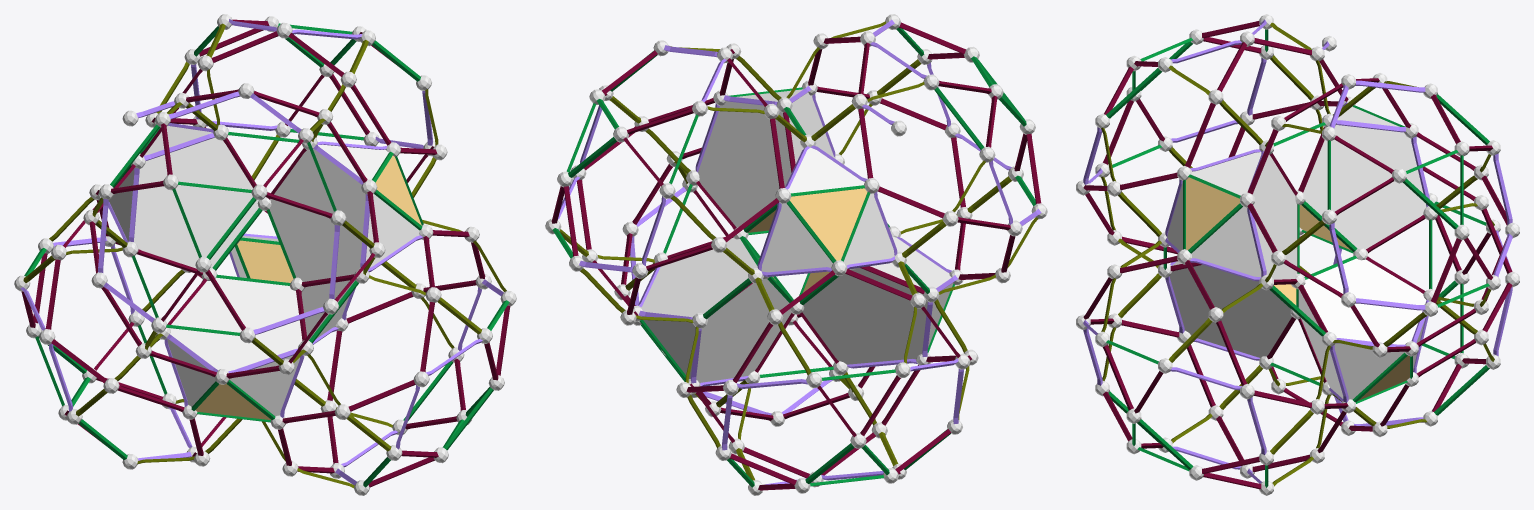
Rendered from JK-CRF-octa-first.gltf.
The picture shows the model from 3 angles, left to right: view 1: azimuth 30°, elevation 25°; view 2: azimuth 150°, elevation 25°; view 3: azimuth 270°, elevation 25°; orthographic projection. The views are drawn at different scales.
Bounding box in the file's own units: 60.04 × 60.04 × 60.04.
